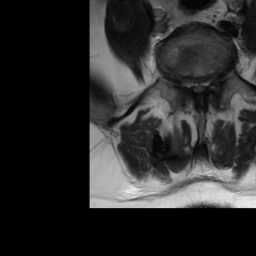CCS_severe_stenosis: (194, 73, 202, 99)
LFS_severe_stenosis: (209, 67, 217, 87)
LLS_severe_stenosis: (202, 74, 209, 95)
RFS_severe_stenosis: (179, 68, 187, 93)
RLS_severe_stenosis: (187, 71, 195, 97)
